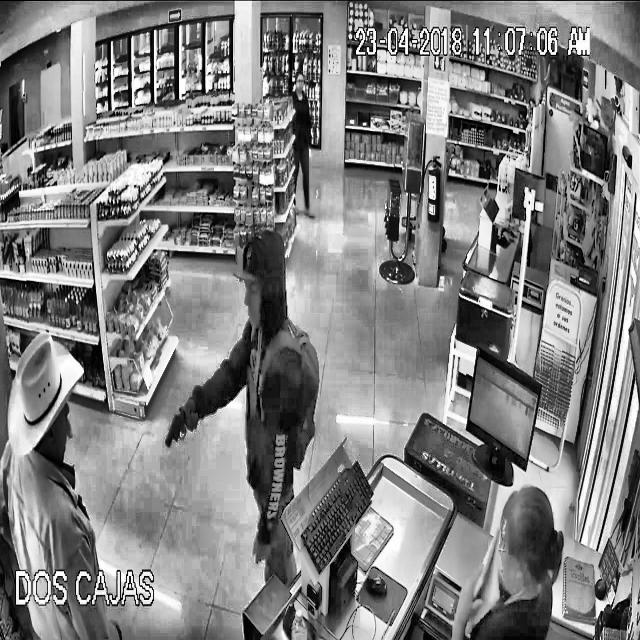pistol: (162, 378, 208, 465)
robbery: (0, 207, 330, 639)
